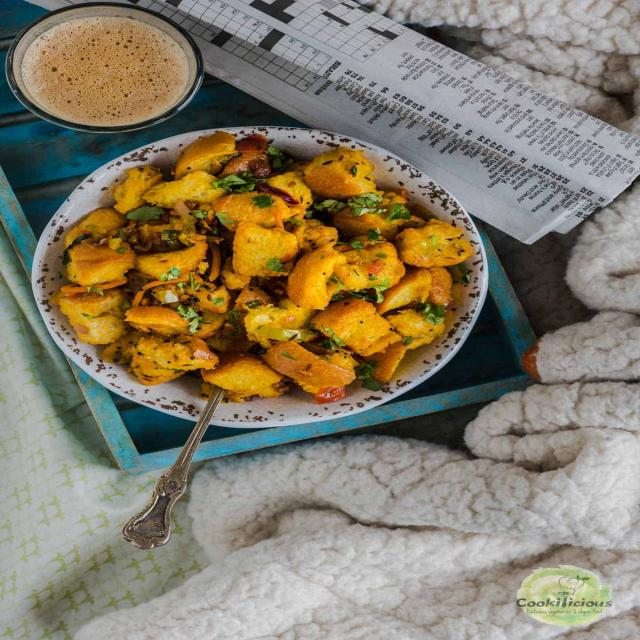BAJI: (51, 132, 472, 400)
